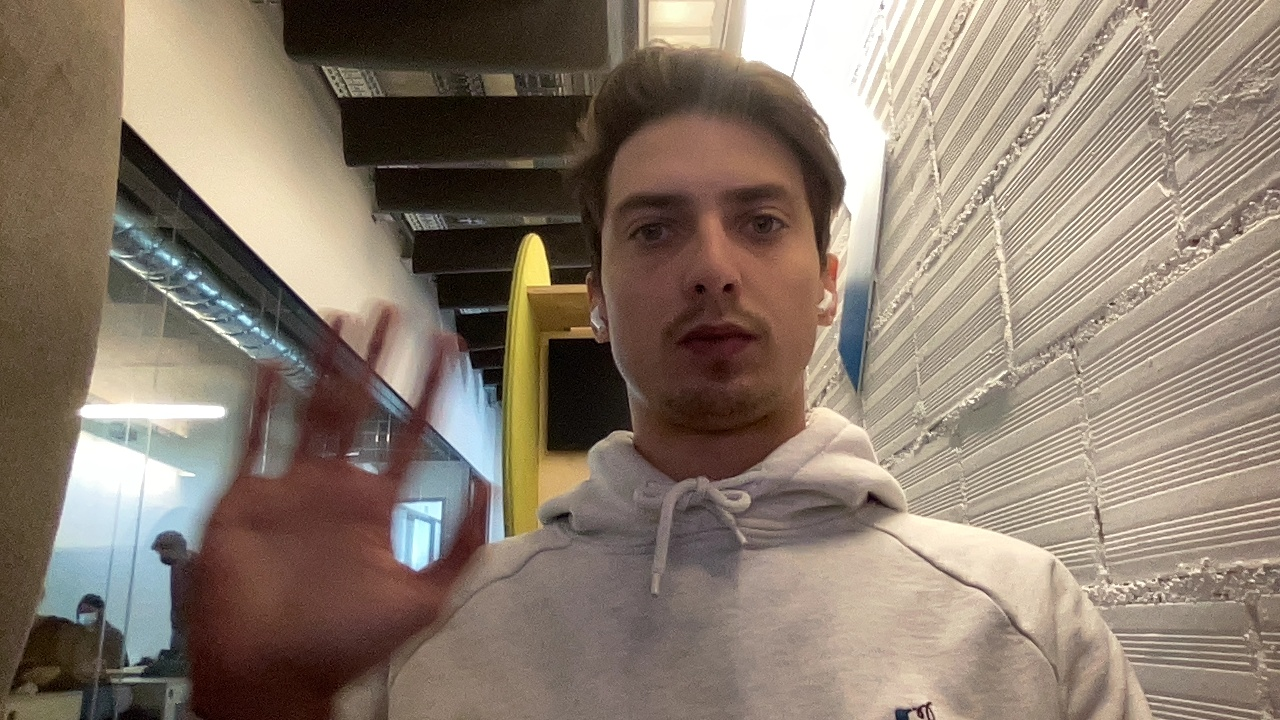Hello: (140, 278, 522, 667)
